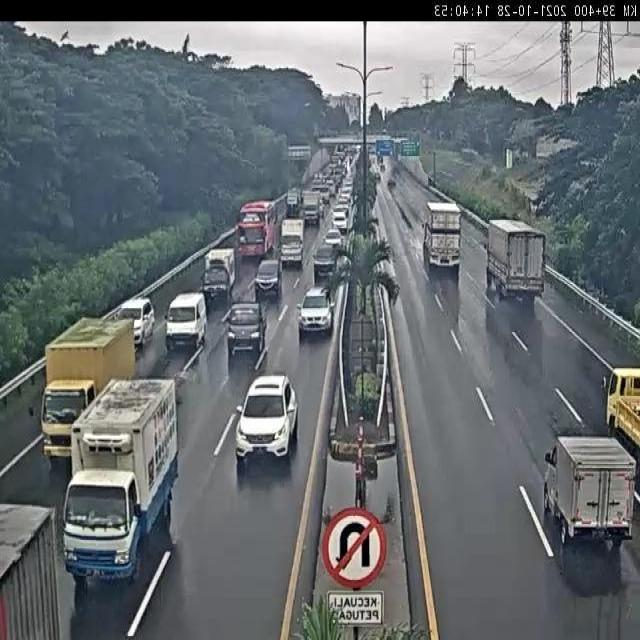Bus: (239, 205, 268, 250), (280, 218, 305, 265), (240, 200, 270, 215), (198, 269, 208, 297)
Car: (237, 384, 293, 452), (165, 294, 206, 351), (226, 302, 266, 358), (116, 297, 155, 347), (298, 288, 333, 336), (254, 260, 282, 300), (313, 246, 338, 281), (303, 285, 329, 302), (325, 228, 343, 248), (335, 210, 349, 233), (201, 281, 212, 310), (347, 203, 357, 229), (241, 213, 261, 224)
Truck: (56, 425, 164, 567), (70, 378, 177, 519), (31, 333, 108, 445), (556, 440, 632, 548), (2, 504, 62, 639), (605, 370, 640, 492), (487, 218, 544, 288), (422, 202, 462, 269), (206, 248, 236, 294)
